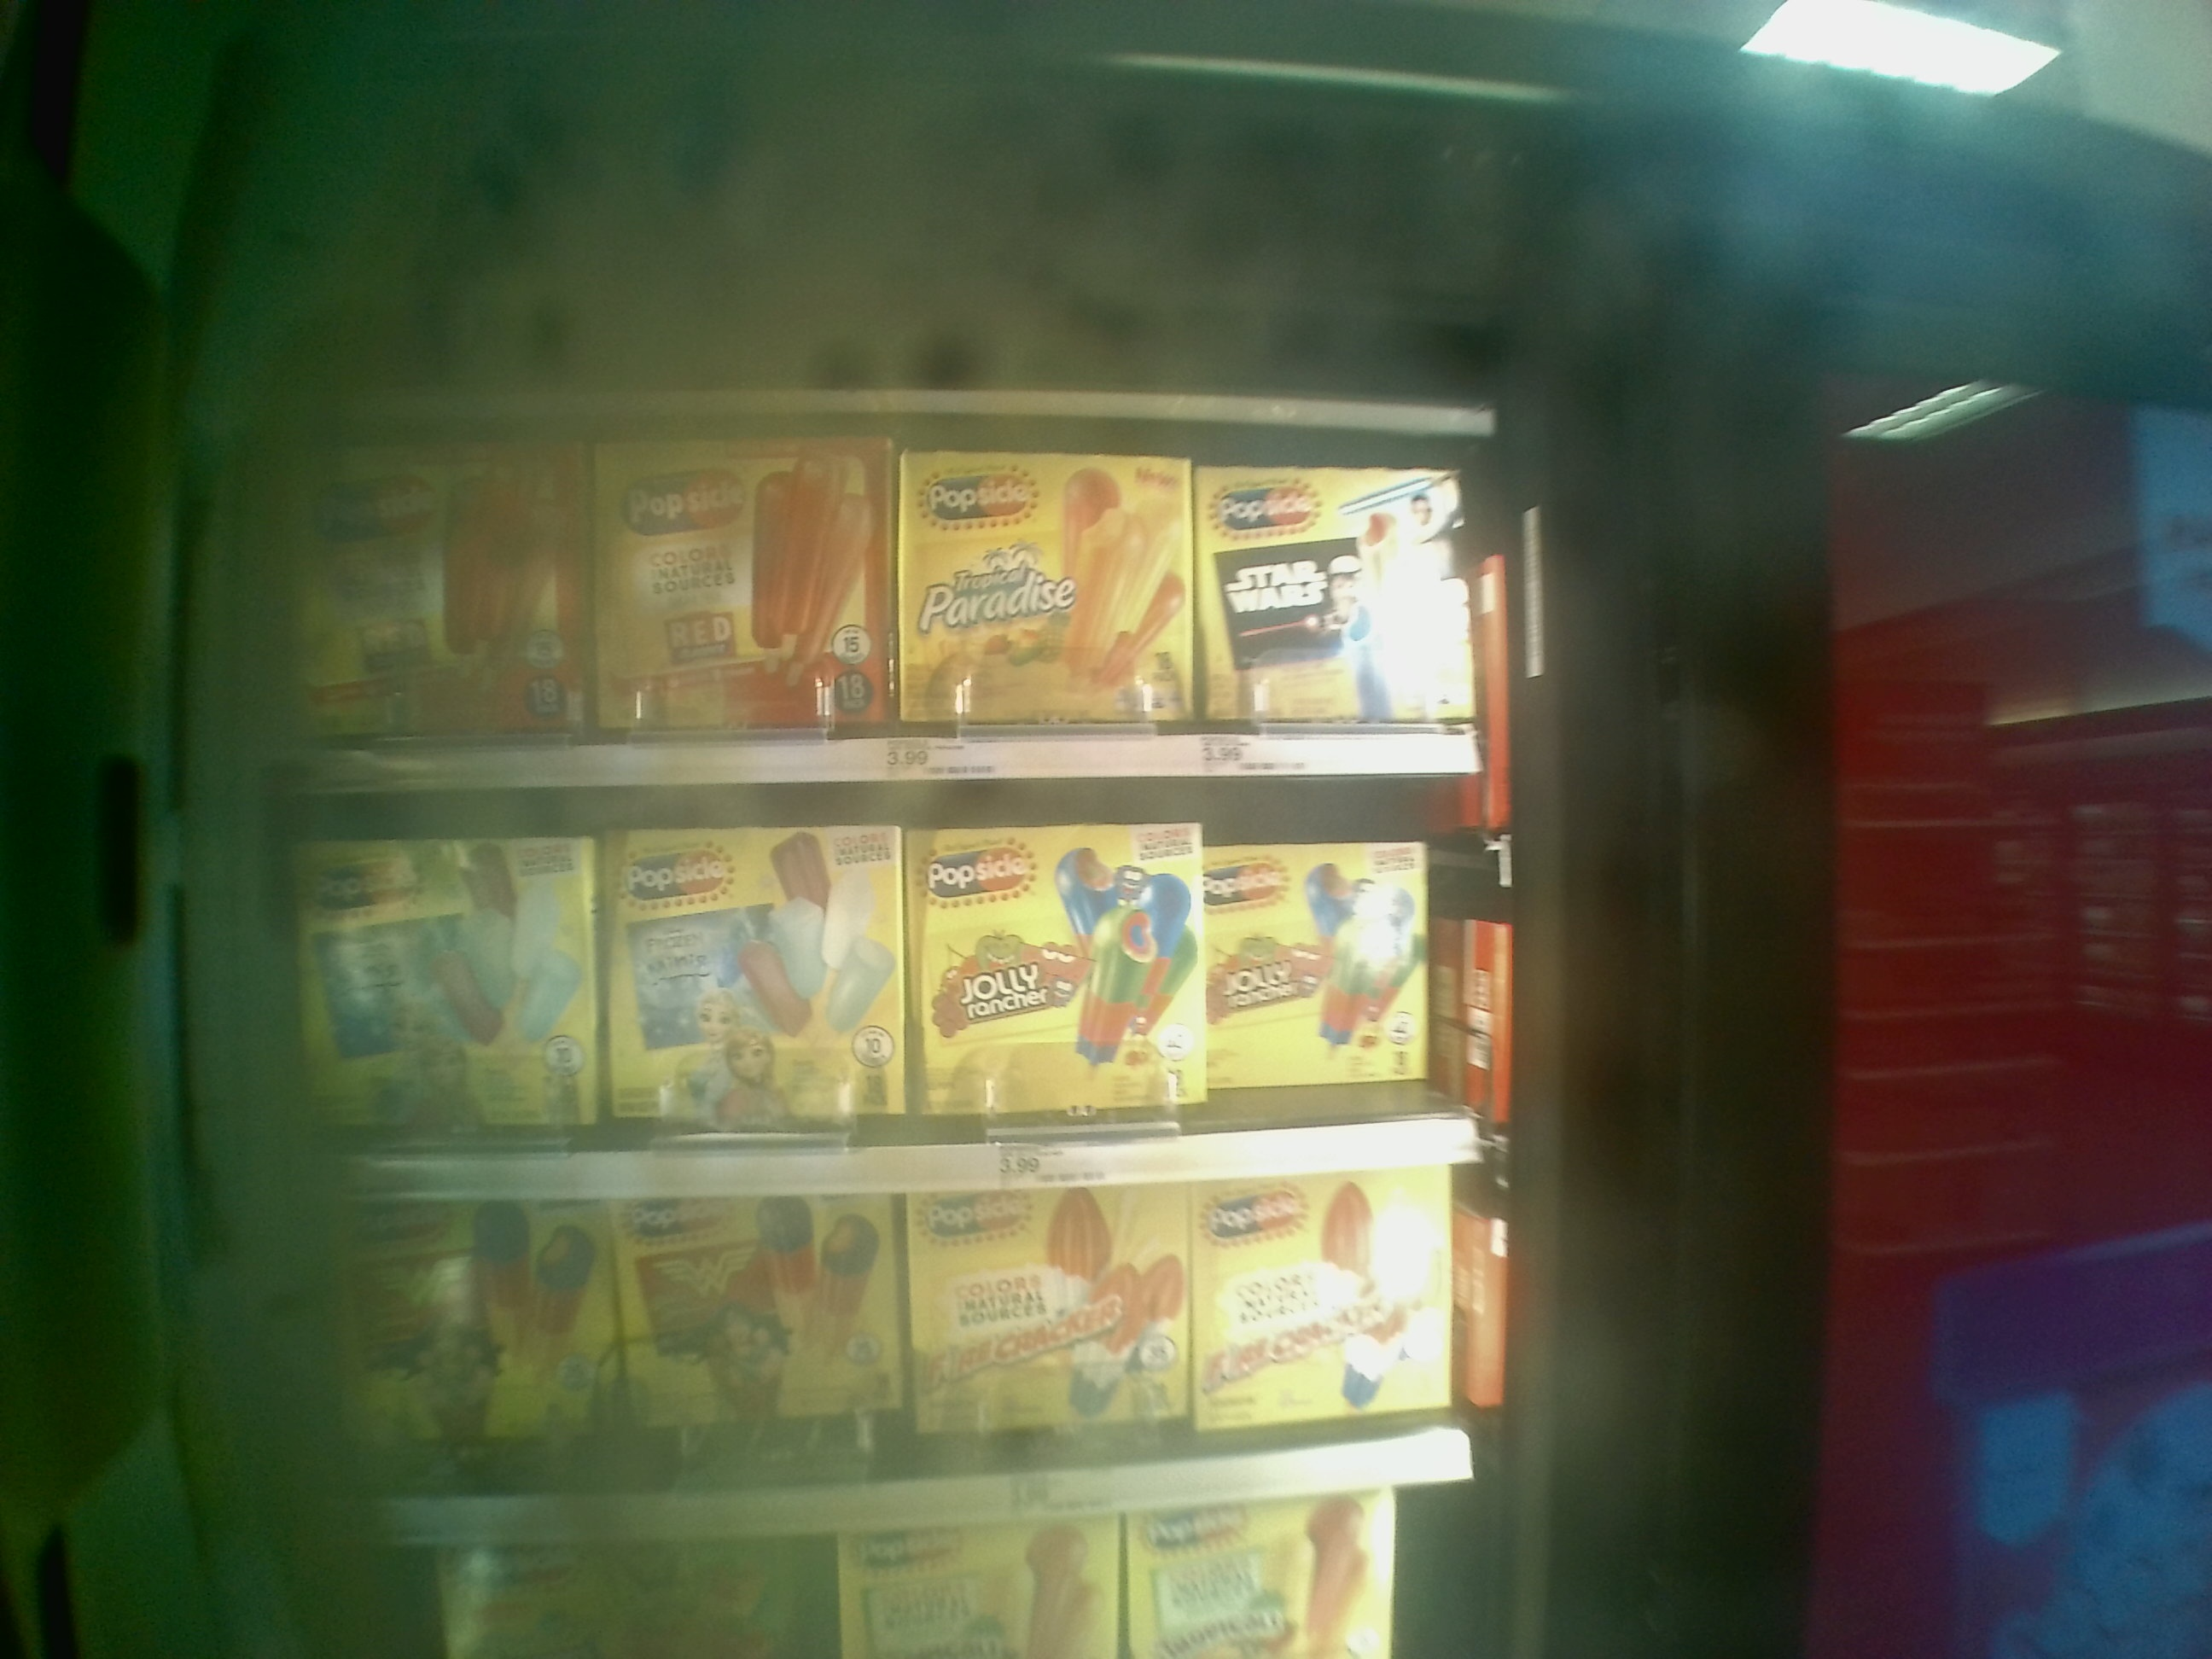frozen-food-shelf: (270, 793, 1484, 1206)
